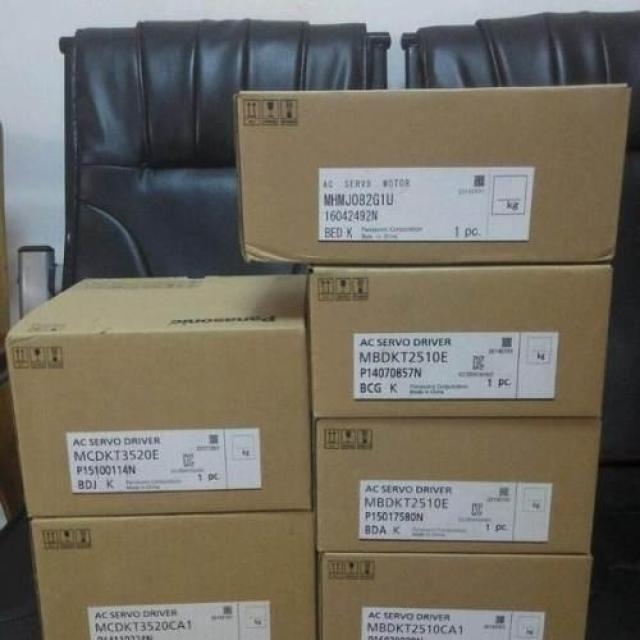box: (3, 273, 313, 517), (236, 84, 633, 263), (309, 265, 611, 420), (311, 421, 601, 554), (30, 508, 319, 639), (317, 550, 590, 639)
